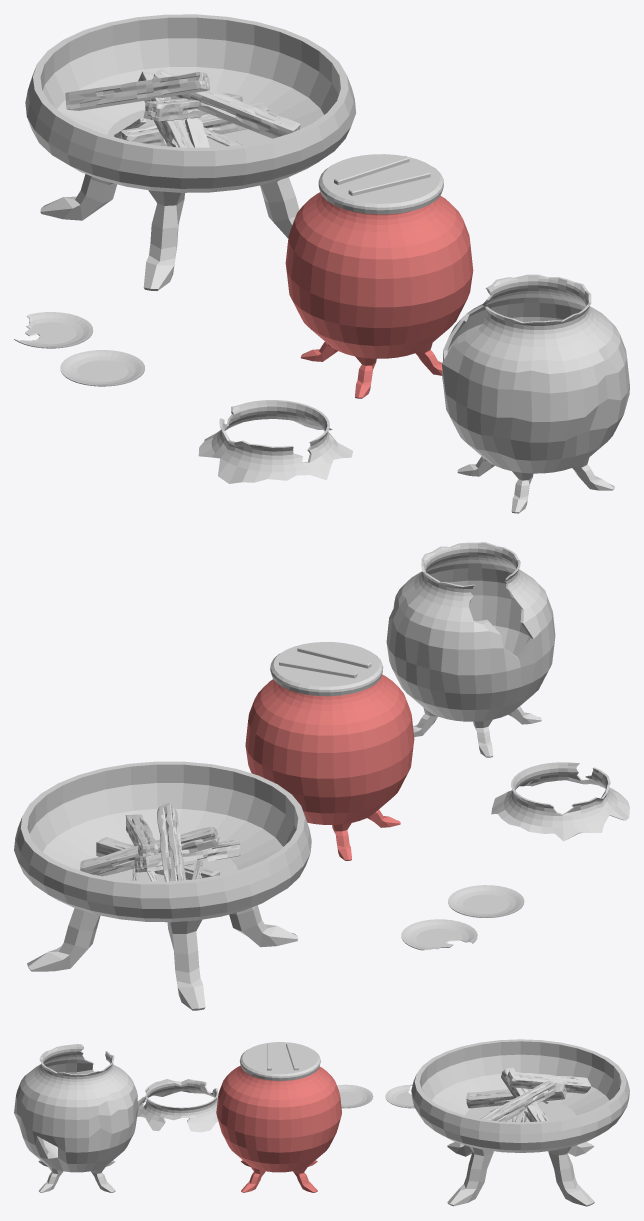
File: props.fbx
The picture shows the model from 3 angles, top to bottom: view 1: azimuth 30°, elevation 25°; view 2: azimuth 150°, elevation 25°; view 3: azimuth 270°, elevation 25°; orthographic projection. The views are drawn at different scales.
Parts seen in each view (by area): view 1: Circle, Circle.003, Circle.001, Circle.004, Circle.002, Cube.004, Cube.002, Circle.005, Circle.006, Cube, Cube.001, Cube.003; view 2: Circle, Circle.003, Circle.001, Circle.004, Circle.002, Circle.005, Cube.001, Circle.006, Cube.004, Cube.003, Cube.002, Cube; view 3: Circle, Circle.003, Circle.001, Circle.004, Circle.002, Cube.004, Cube.002, Cube.003, Circle.005, Cube.001, Circle.006.
Boxes of the visible parts, <box> form: Circle: <box>25,14,355,290</box>; Circle.003: <box>442,274,629,513</box>; Circle.001: <box>285,192,473,398</box>; Circle.004: <box>198,400,352,483</box>; Circle.002: <box>318,154,443,214</box>; Cube.004: <box>65,72,209,110</box>; Cube.002: <box>152,69,300,138</box>; Circle.005: <box>60,350,144,386</box>; Circle.006: <box>14,312,93,348</box>; Cube: <box>120,102,269,145</box>; Cube.001: <box>143,93,242,121</box>; Cube.003: <box>138,71,194,147</box>; Circle: <box>14,761,311,1010</box>; Circle.003: <box>386,542,555,757</box>; Circle.001: <box>245,674,414,860</box>; Circle.004: <box>491,762,629,841</box>; Circle.002: <box>270,642,383,696</box>; Circle.005: <box>448,885,524,917</box>; Cube.001: <box>80,827,219,876</box>; Circle.006: <box>401,919,477,950</box>; Cube.004: <box>157,802,185,881</box>; Cube.003: <box>134,840,241,872</box>; Cube.002: <box>125,814,158,856</box>; Cube: <box>96,837,221,879</box>; Circle: <box>411,1039,629,1206</box>; Circle.003: <box>14,1044,138,1192</box>; Circle.001: <box>216,1065,341,1192</box>; Circle.004: <box>137,1079,218,1132</box>; Circle.002: <box>240,1042,320,1080</box>; Cube.004: <box>504,1071,590,1093</box>; Cube.002: <box>480,1081,555,1121</box>; Cube.003: <box>466,1083,566,1108</box>; Circle.005: <box>337,1084,373,1108</box>; Cube.001: <box>501,1067,548,1121</box>; Circle.006: <box>385,1084,414,1108</box>.
Bounding box in the file's own units: 381 × 171 × 781.
